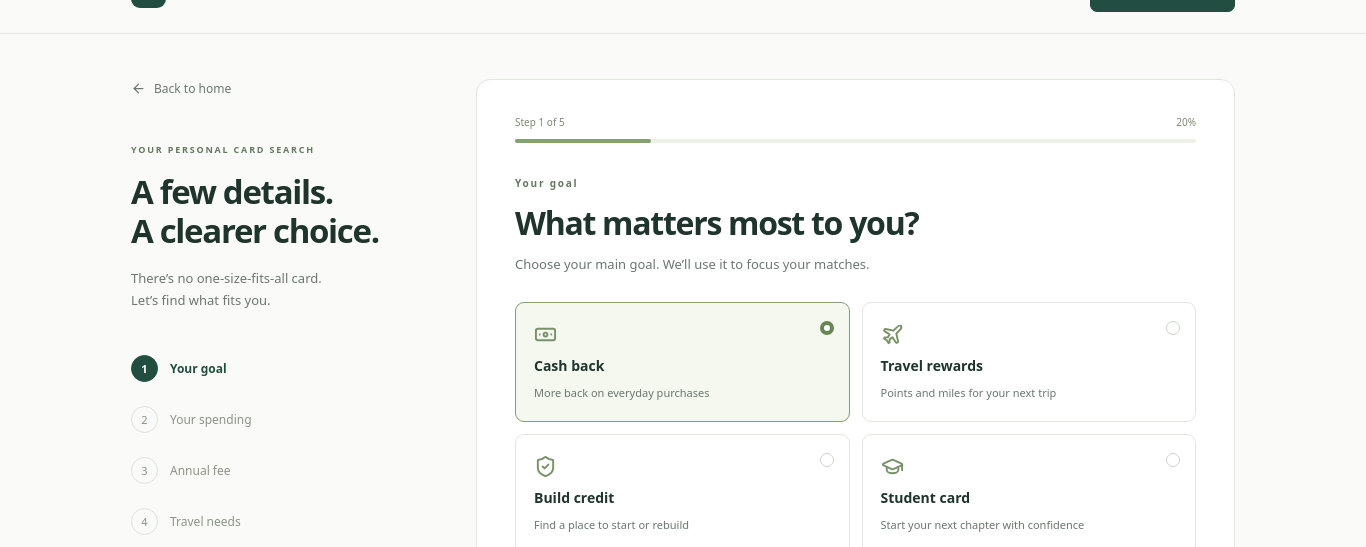
Test case: guided navigation preserves spending and permits skipping it
Click the radio button labelled "Travel rewards Points and miles for your next trip": (932, 365) [862,302,1196,422]
(page scrolled)
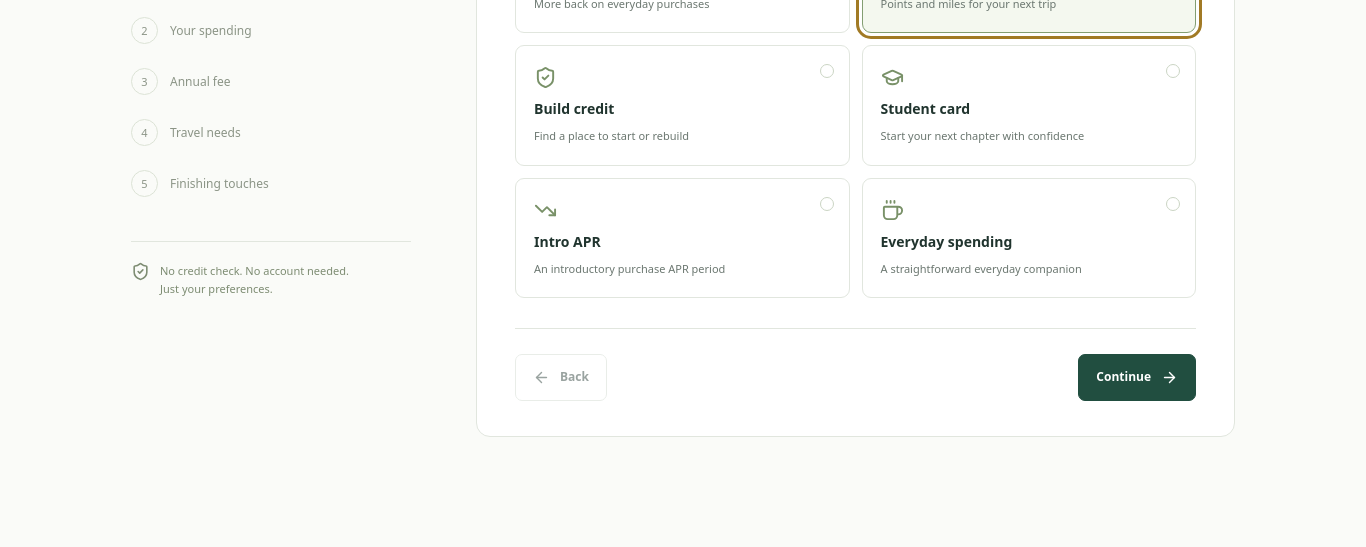
Click the button "Continue": (1137, 378) [1078,354,1196,401]
(page scrolled)
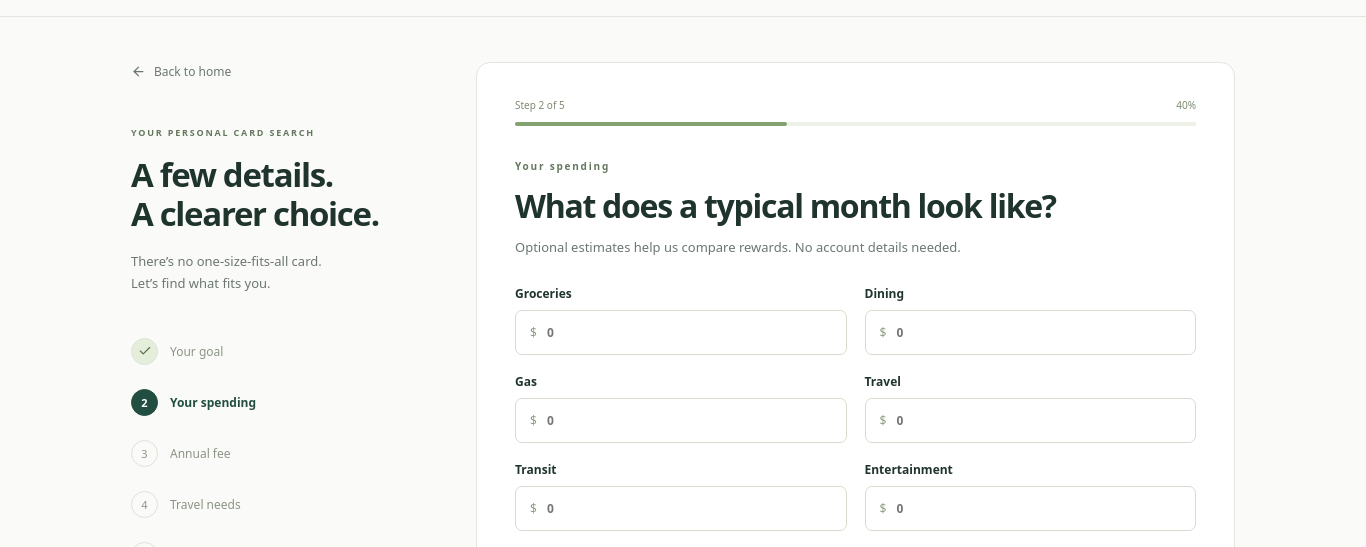
In the number field labelled "Groceries": (691, 332) [537,310,846,354], type "350"
(page scrolled)
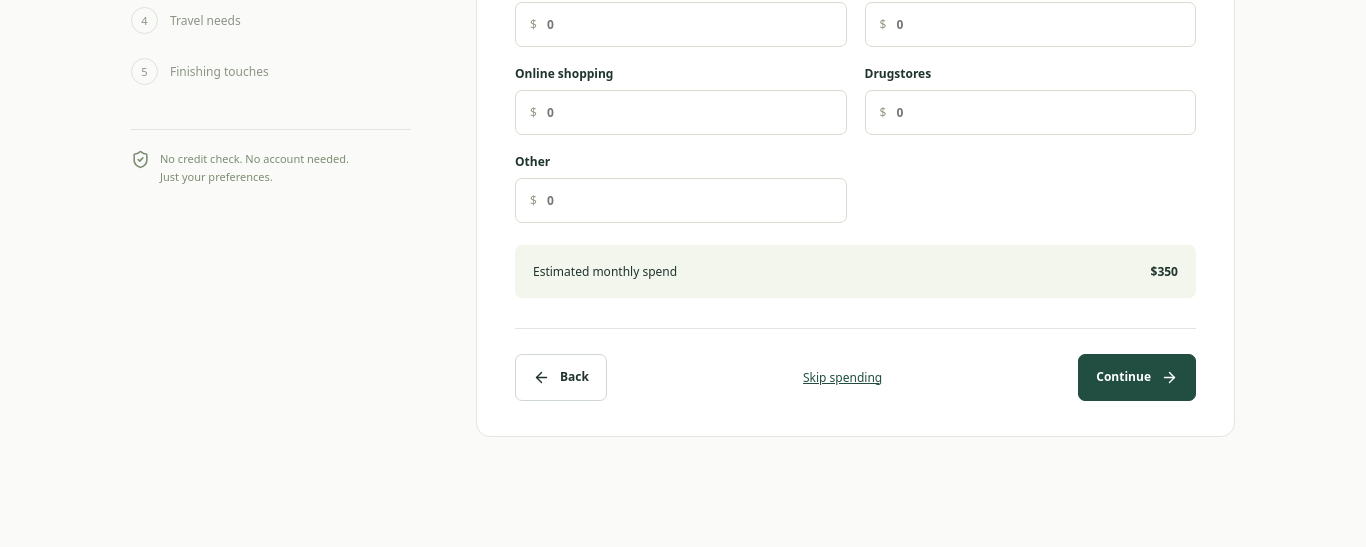
Click the button "Back": (561, 377) [515,354,607,400]
(page scrolled)
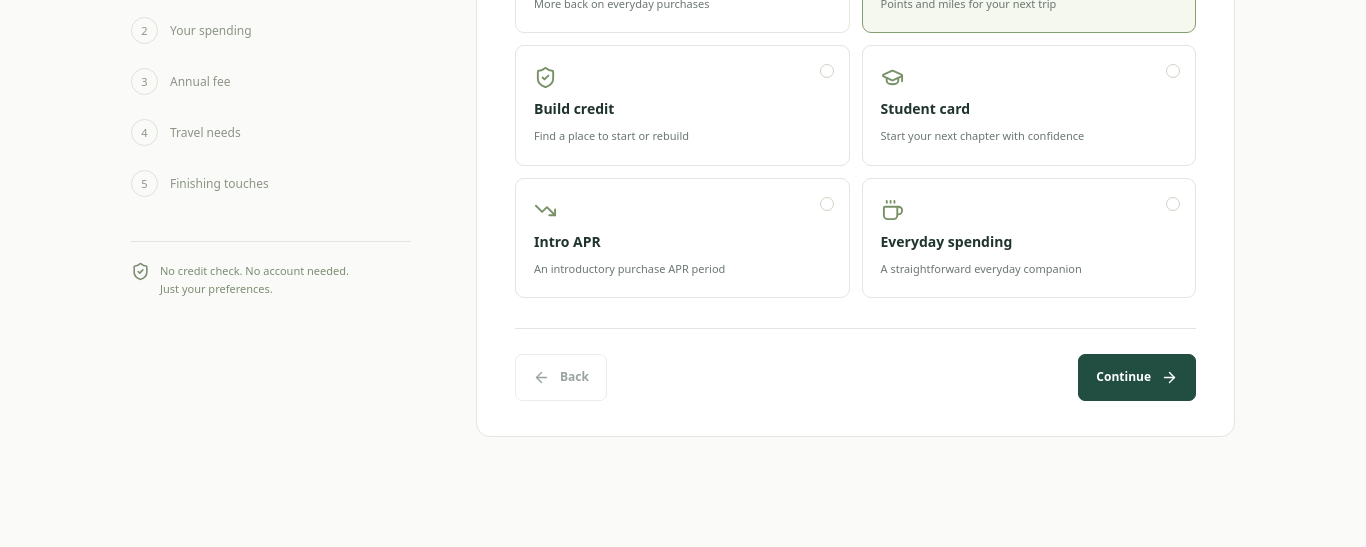
Click the button "Continue": (1137, 378) [1078,354,1196,401]
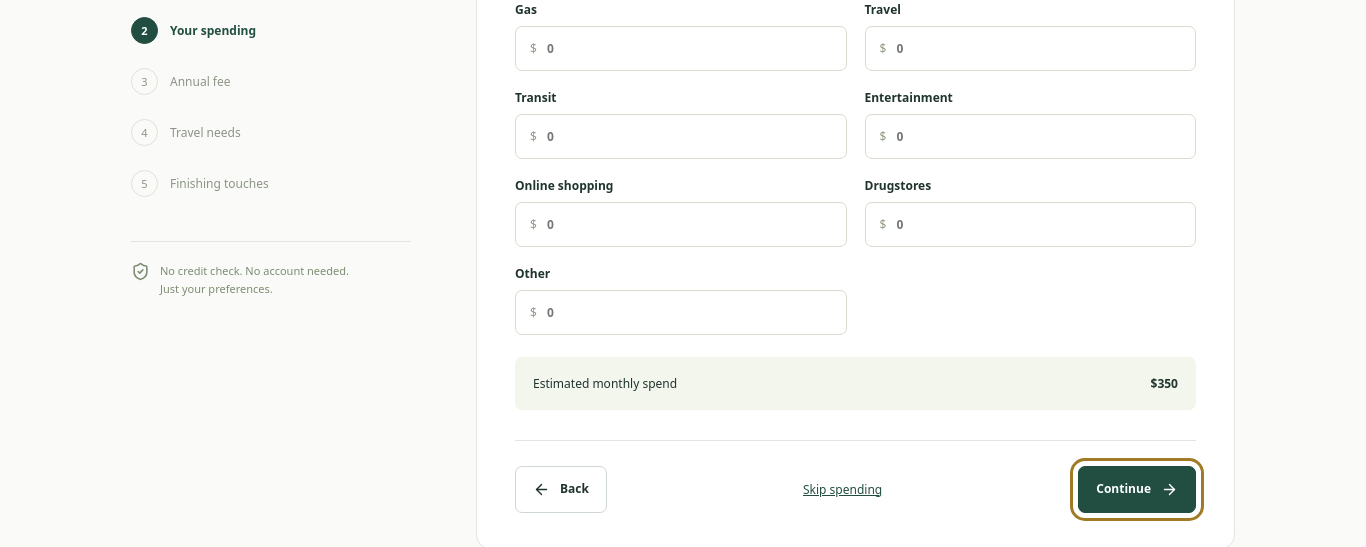
Click the button "Skip spending": (843, 489) [803,472,882,506]
(page scrolled)
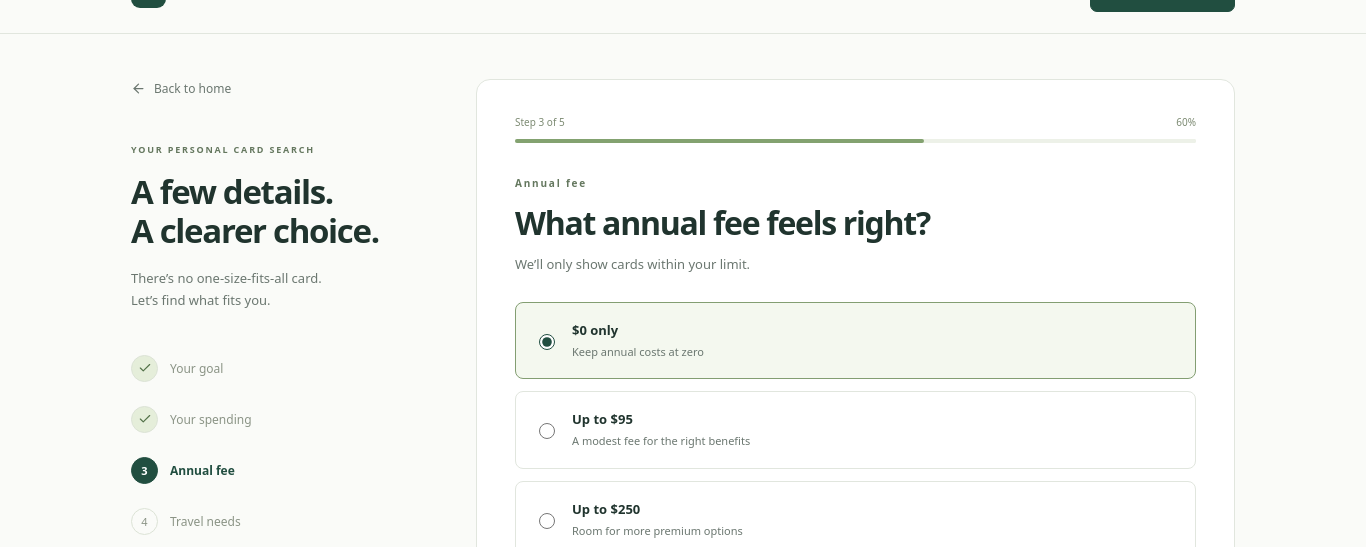
Check: the heading "What annual fee feels right?" is shown, box [515,201,930,244]
